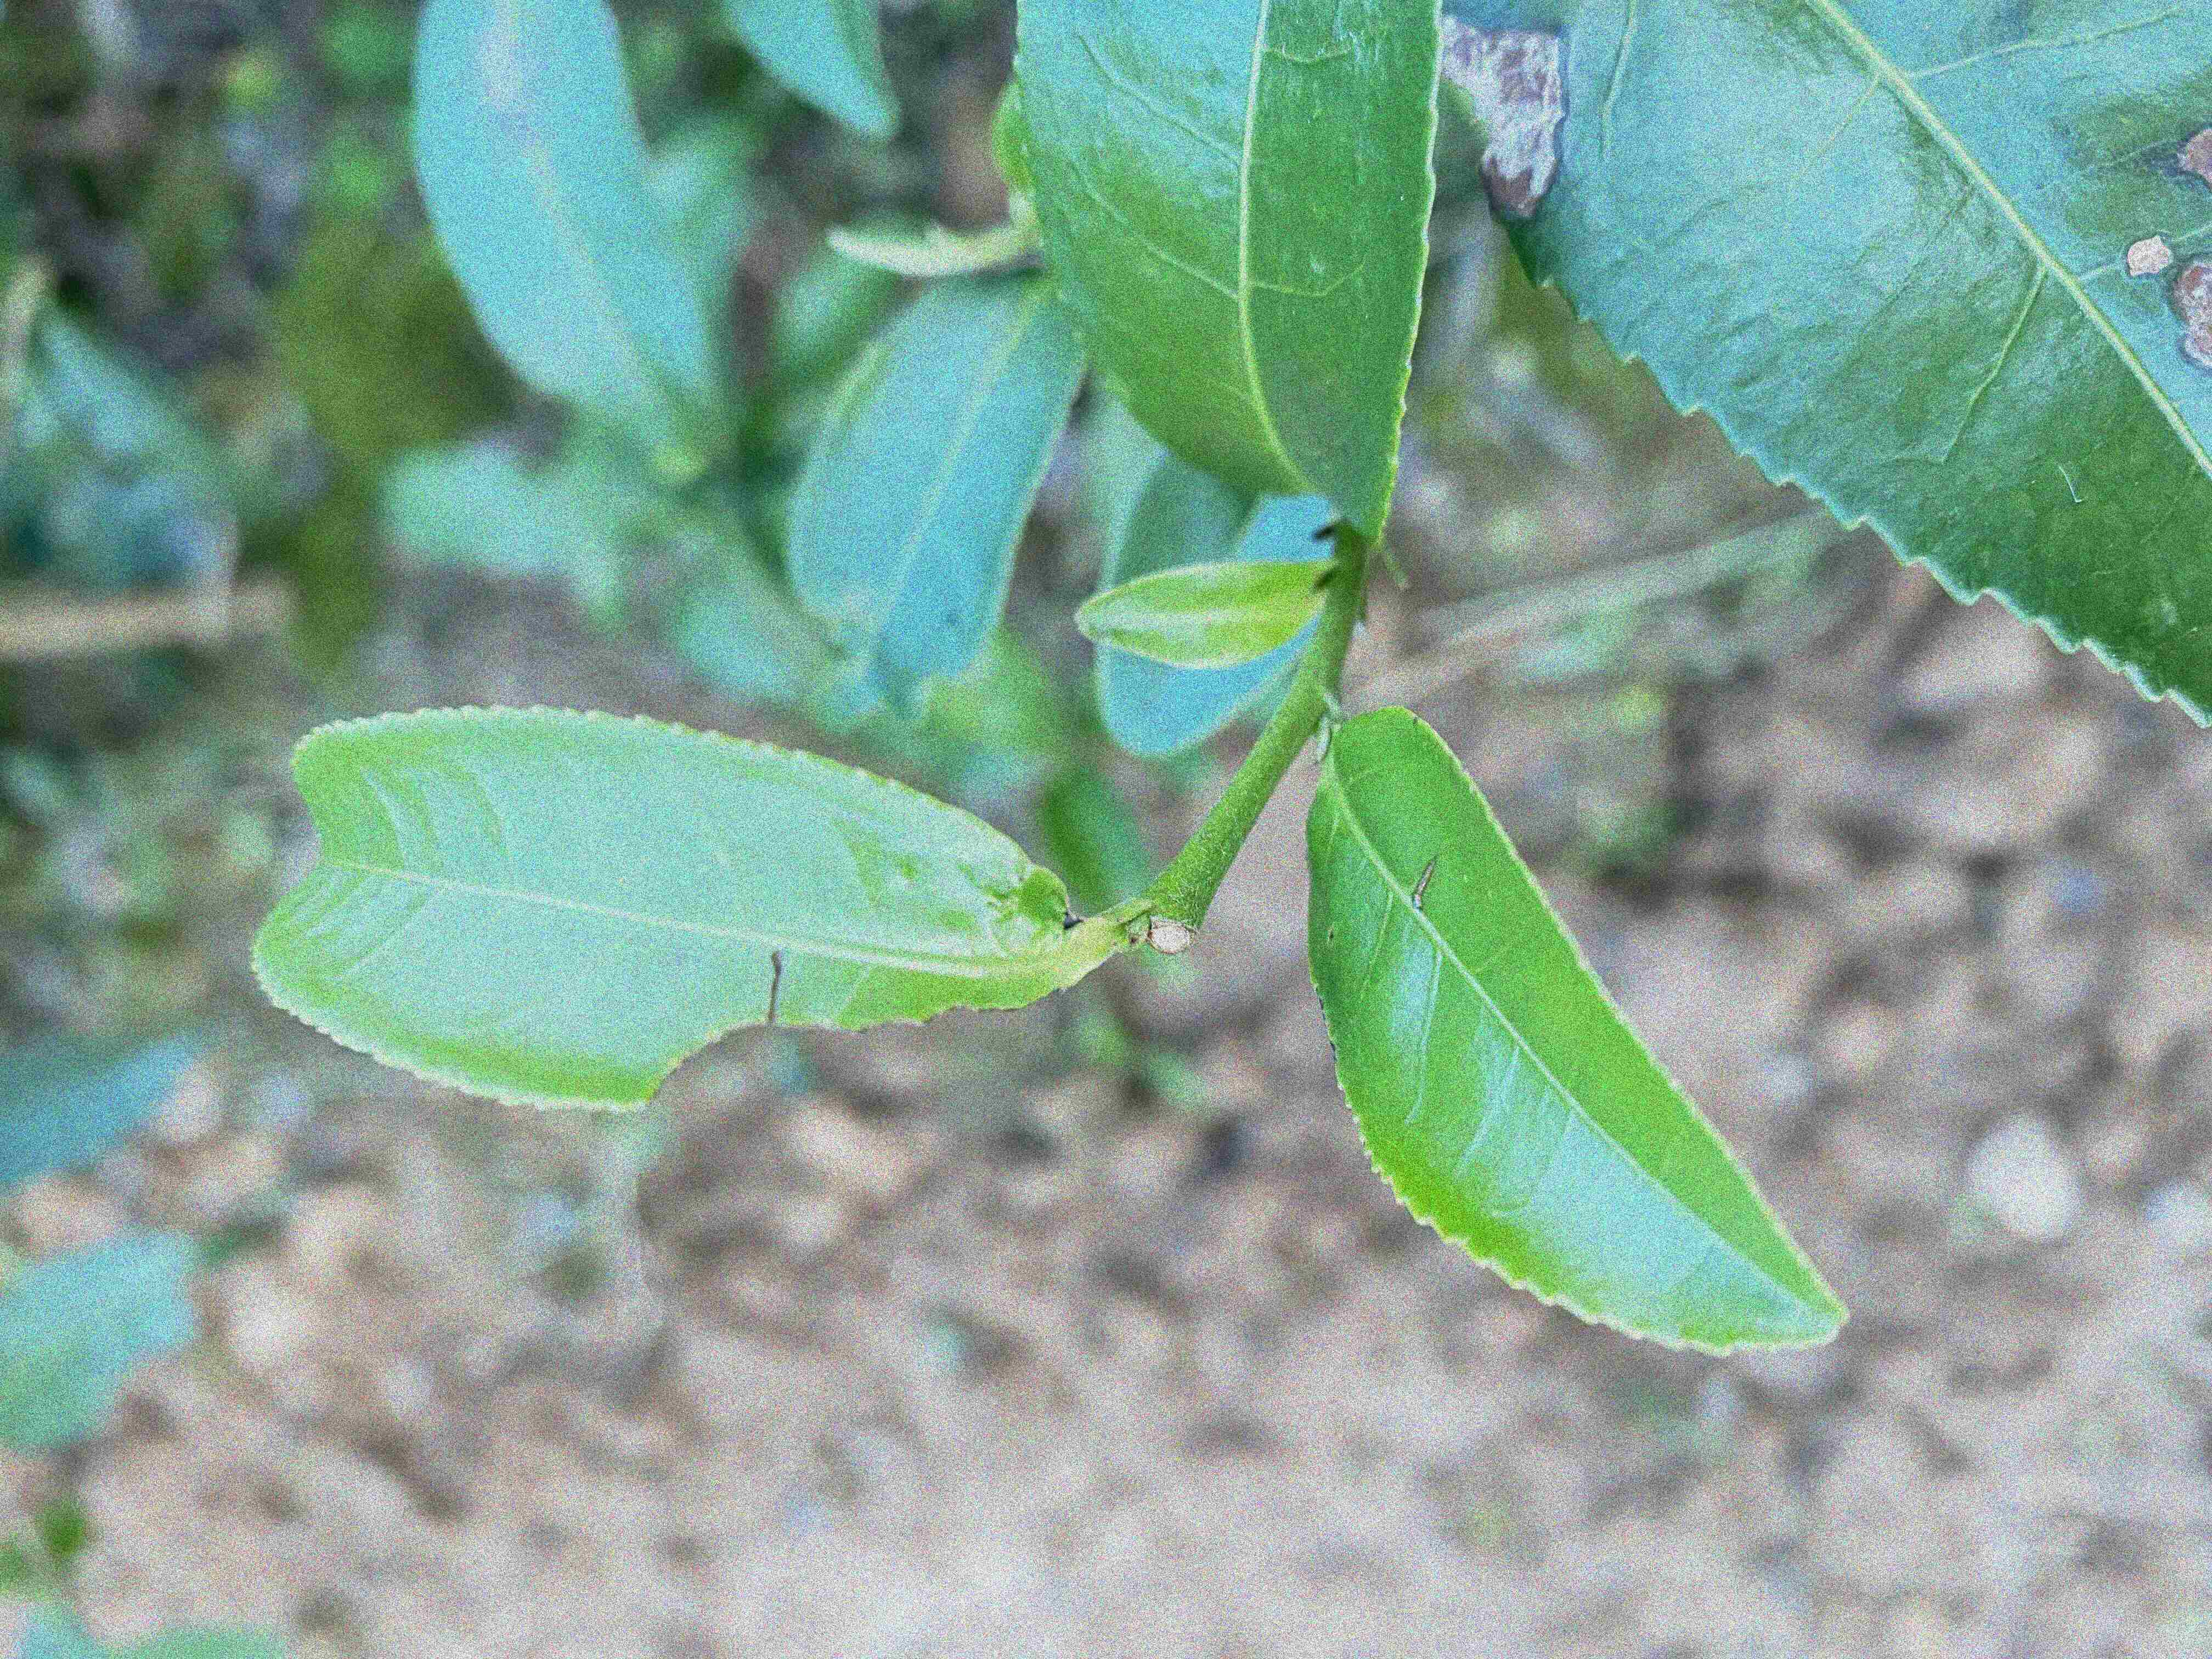chihuo_low: (249, 699, 1087, 1114)
healthy: (1014, 2, 1444, 547), (1069, 558, 1332, 669)
tanju_high: (1446, 3, 2212, 735)
tanju_low: (1303, 702, 1850, 1359)
